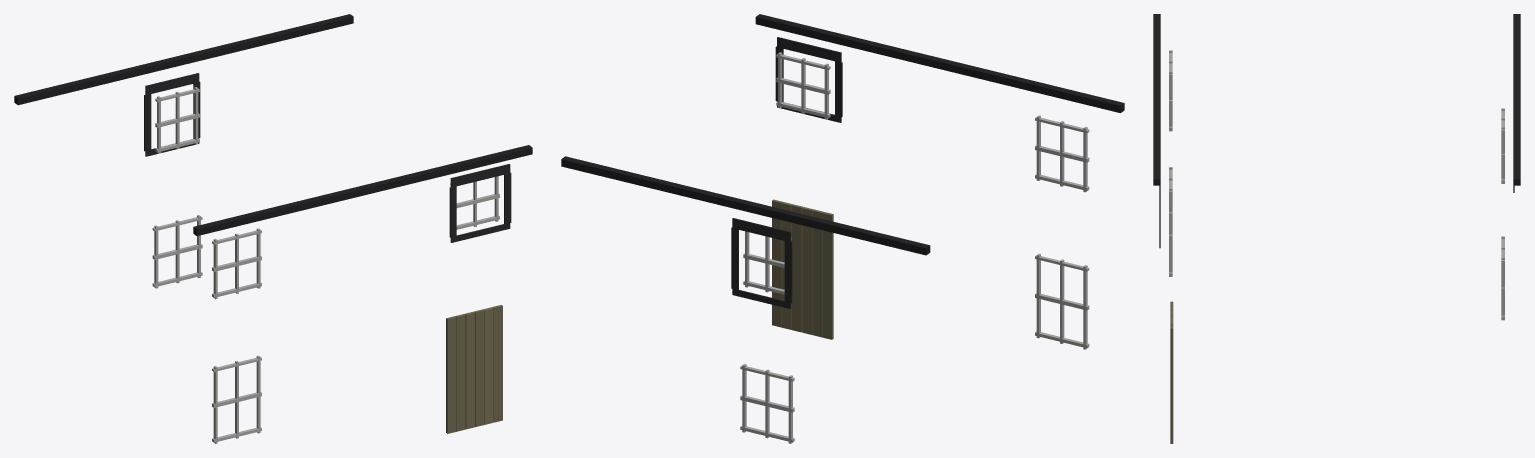
The model's file is SM_Bld_245_Wood.glb.
3 renders of one model, left to right at view 1: azimuth 30°, elevation 25°; view 2: azimuth 150°, elevation 25°; view 3: azimuth 270°, elevation 25°, orthographic. The views are drawn at different scales.
Visible parts, largest first — view 1: SM_Bld_245_Wood; view 2: SM_Bld_245_Wood; view 3: SM_Bld_245_Wood.
Boxes of the visible parts, x1,y1,x2,y2 form: SM_Bld_245_Wood: (14, 14, 532, 443); SM_Bld_245_Wood: (561, 14, 1124, 443); SM_Bld_245_Wood: (1153, 14, 1520, 443).
Size of the model in its own units: 6.29 by 4.9 by 5.92.
